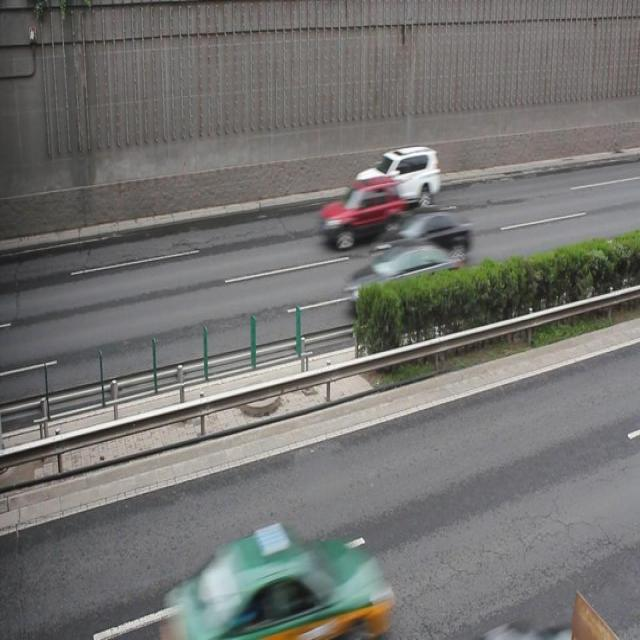car: (160, 522, 384, 640), (344, 244, 456, 312), (370, 208, 472, 266), (319, 182, 401, 246), (355, 146, 438, 208)
